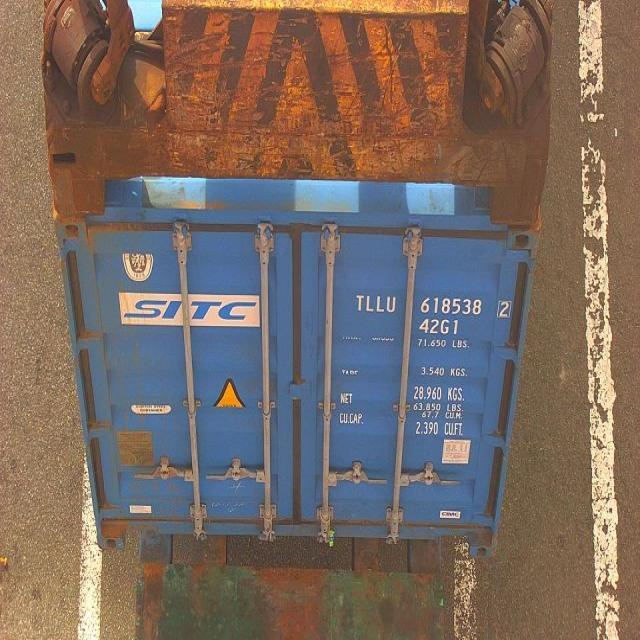ISO: (420, 320, 460, 338)
container_number: (358, 298, 512, 315)
